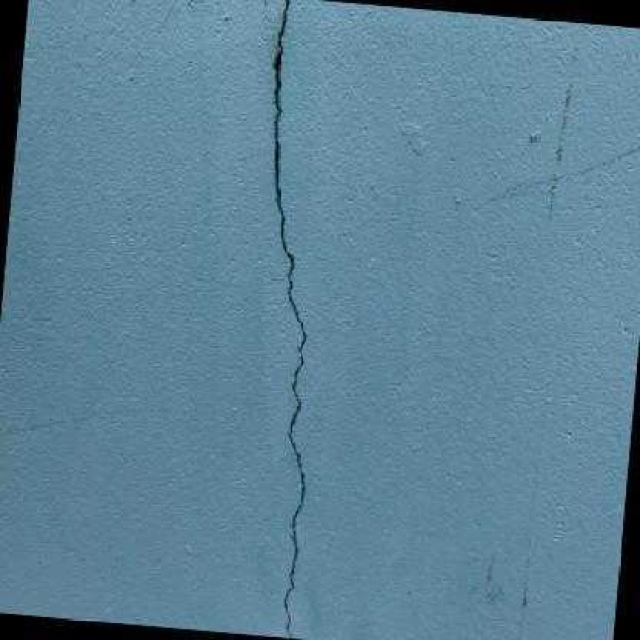D00: (272, 0, 306, 639)
